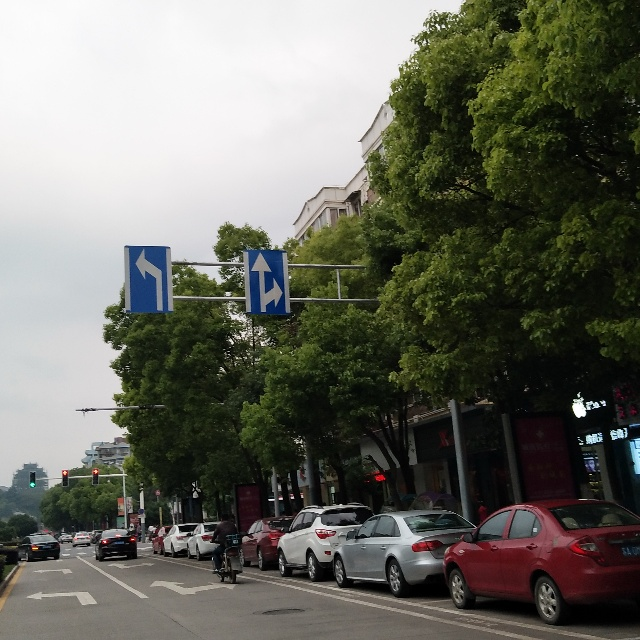left: (124, 246, 174, 313)
